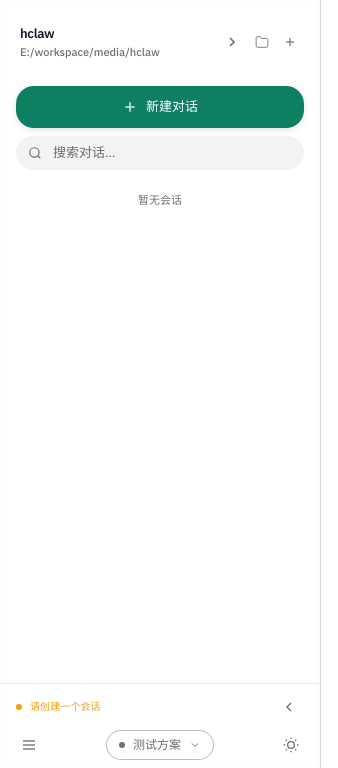
Test: SidebarGearMenu 两级抽屉 › T16: click group 节点打开二级面板，项数 = 该 group 的 items 数
The image size is (338, 768).
Step 1. Click the button named "功能菜单" → click(29, 745), box [16,732,42,758]
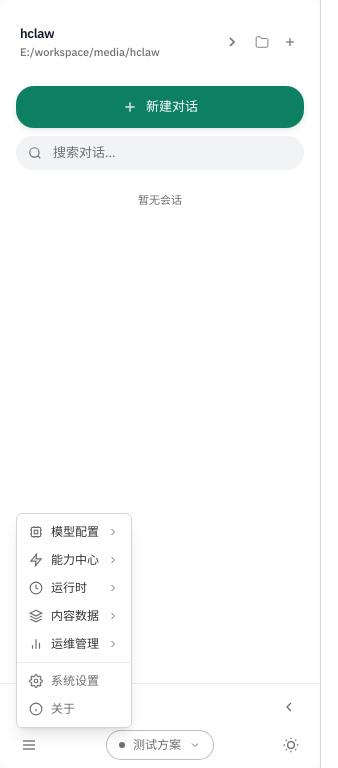
Now the button "模型配置" is shown
Step 2. Click the button "模型配置" → click(74, 532), box [17,518,131,546]
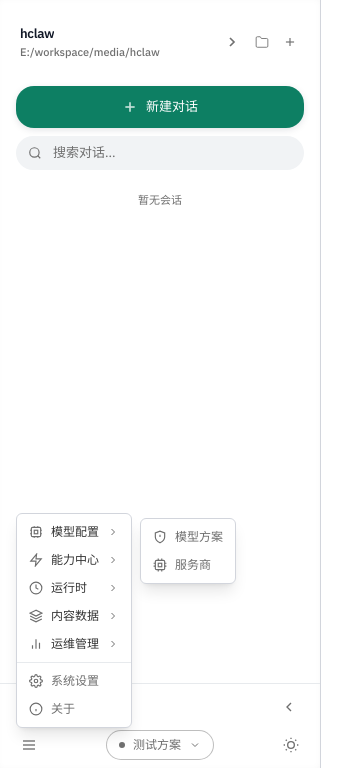
Now the element showing "模型方案 服务商" is shown, box [140,518,236,584]
